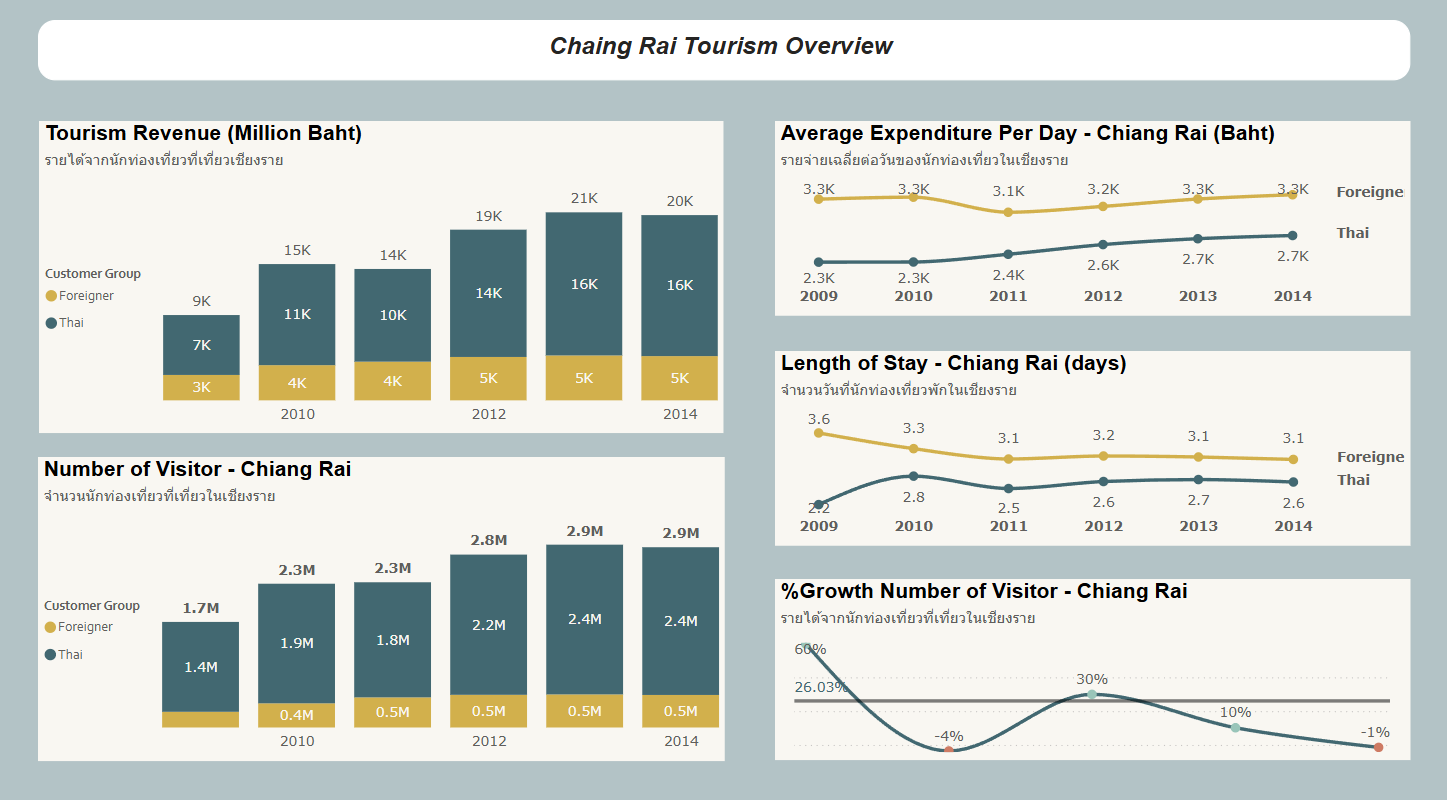

Layout of this report page (visuals, bound fields, positions):
{"tool":"powerbi","page":{"name":"Overview","canvas":[1280,720],"ordinal":0},"visuals":[{"type":"textbox","box":[36.9,22.8,1204.7,52.7],"z":0},{"type":"columnChart","title":"Tourism Revenue (Million Baht)","fields":{"Category":["Overview.Years.Variation.Date Hierarchy.Year","Overview.Years.Variation.Date Hierarchy.Quarter","Overview.Years.Variation.Date Hierarchy.Month","Overview.Years.Variation.Date Hierarchy.Day"],"Series":["Overview.Customer Group"],"Y":["Sum(Overview.Value)"]},"box":[37.9,111.9,601.1,274.3],"z":1000},{"type":"columnChart","title":"Number of Visitor - Chiang Rai","fields":{"Category":["Overview.Years.Variation.Date Hierarchy.Year","Overview.Years.Variation.Date Hierarchy.Quarter","Overview.Years.Variation.Date Hierarchy.Month","Overview.Years.Variation.Date Hierarchy.Day"],"Y":["Sum(Overview.Value)"],"Series":["Overview.Customer Group"]},"box":[37,406.6,603,266.5],"z":2000},{"type":"lineChart","title":"%Growth Number of Visitor - Chiang Rai","fields":{"Category":["Overview.Years.Variation.Date Hierarchy.Year","Overview.Years.Variation.Date Hierarchy.Quarter","Overview.Years.Variation.Date Hierarchy.Month","Overview.Years.Variation.Date Hierarchy.Day"],"Y":["Overview.%Growth"],"Rows":["Overview.Customer Group"]},"box":[684,513.7,557.6,158.9],"z":3000},{"type":"lineChart","title":"Average Expenditure Per Day - Chiang Rai (Baht)","fields":{"Category":["Overview.Years.Variation.Date Hierarchy.Year","Overview.Years.Variation.Date Hierarchy.Quarter","Overview.Years.Variation.Date Hierarchy.Month","Overview.Years.Variation.Date Hierarchy.Day"],"Y":["Sum(Overview.Value)"],"Series":["Overview.Customer Group"]},"box":[684,111.5,557.6,171.2],"z":4000},{"type":"lineChart","title":"Length of Stay - Chiang Rai (days)","fields":{"Category":["Overview.Years.Variation.Date Hierarchy.Year","Overview.Years.Variation.Date Hierarchy.Quarter","Overview.Years.Variation.Date Hierarchy.Month","Overview.Years.Variation.Date Hierarchy.Day"],"Y":["Sum(Overview.Value)"],"Series":["Overview.Customer Group"]},"box":[683.8,313.2,558.3,171.2],"z":4001}]}

Visuals, with their boxes in screenshot pixels (x1, y1, x2, y2), scaled from the page's 1280x720 canvas onto the 1447x800 screenshot:
textbox: select_region(42, 25, 1404, 84)
"Tourism Revenue (Million Baht)" columnChart: select_region(43, 124, 722, 429)
"Number of Visitor - Chiang Rai" columnChart: select_region(42, 452, 724, 748)
"%Growth Number of Visitor - Chiang Rai" lineChart: select_region(773, 571, 1404, 747)
"Average Expenditure Per Day - Chiang Rai (Baht)" lineChart: select_region(773, 124, 1404, 314)
"Length of Stay - Chiang Rai (days)" lineChart: select_region(773, 348, 1404, 538)
